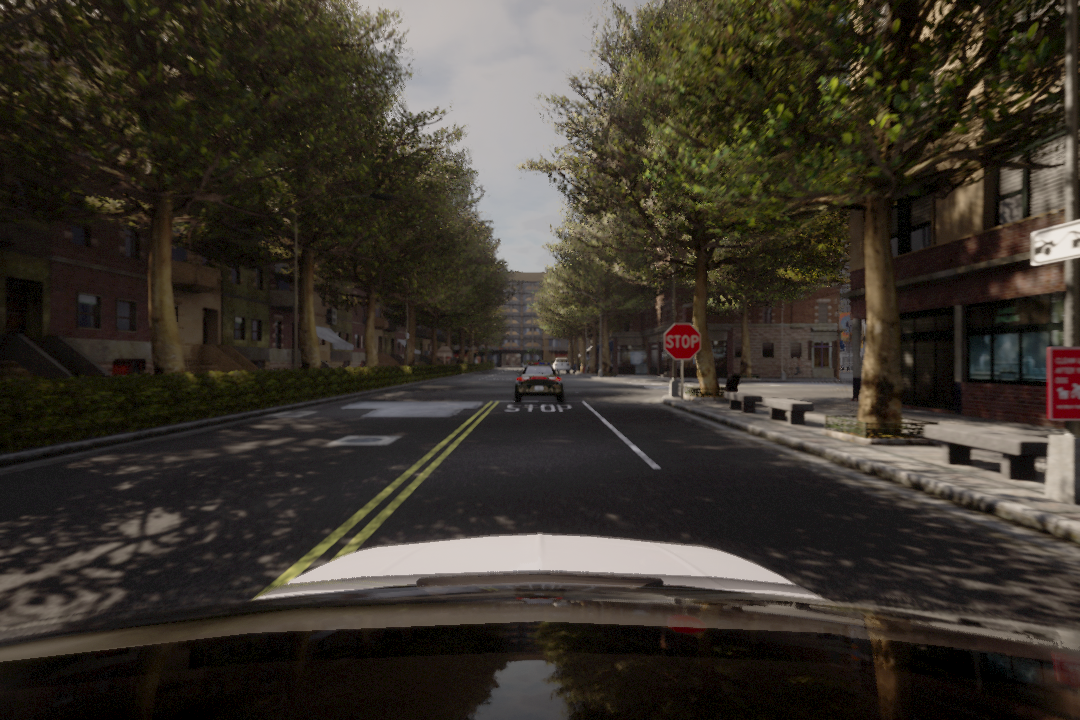TrafficSign_stop: (661, 324, 702, 361)
